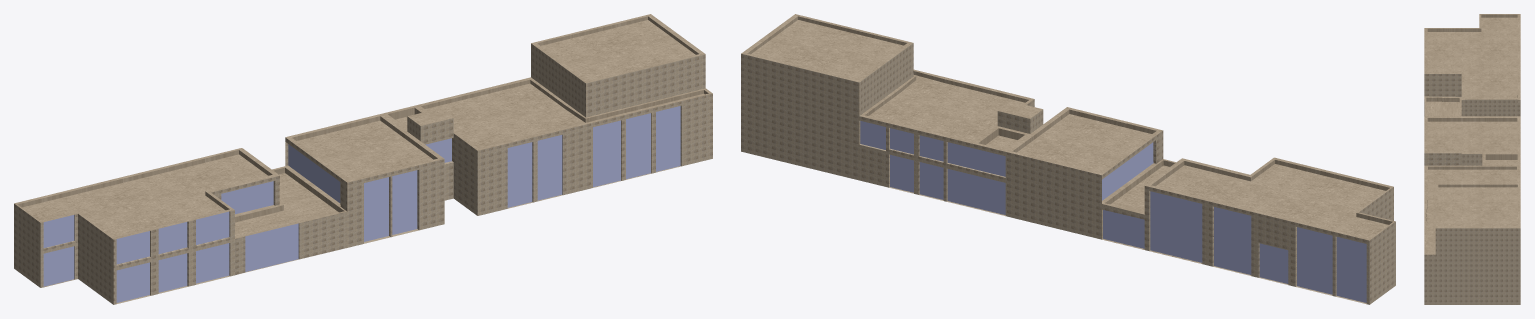
3 renders of one model, left to right at view 1: azimuth 30°, elevation 25°; view 2: azimuth 150°, elevation 25°; view 3: azimuth 270°, elevation 25°, orthographic. The views are drawn at different scales.
Parts seen in each view (by area): view 1: Cube.011; view 2: Cube.011; view 3: Cube.011.
Boxes of the visible parts, bbox=[...] form: Cube.011: bbox=[14, 14, 712, 304]; Cube.011: bbox=[741, 14, 1395, 304]; Cube.011: bbox=[1424, 14, 1520, 304].
Bounding box in the file's own units: 92.19 × 13.73 × 15.58.
Materials: 3 (2 with a texture image).
